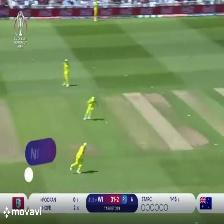ball: (104, 119, 110, 127)
